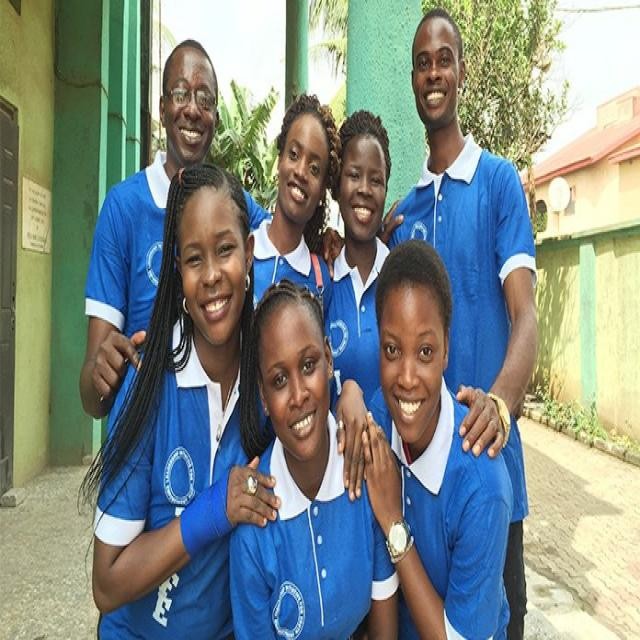body: (312, 6, 543, 638), (78, 154, 373, 638), (77, 35, 275, 422), (360, 237, 515, 640), (228, 277, 401, 638), (321, 107, 396, 448), (244, 91, 346, 341)
